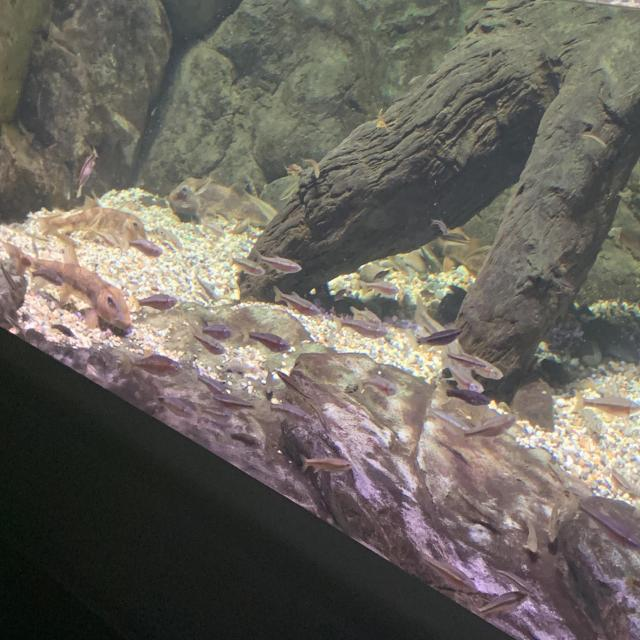fish: (3, 234, 145, 340), (34, 184, 162, 261), (169, 175, 283, 231), (425, 545, 507, 611), (444, 404, 527, 448), (411, 292, 466, 358), (442, 336, 512, 384), (432, 348, 498, 398), (579, 384, 640, 430), (120, 348, 184, 382), (334, 306, 392, 343), (270, 368, 326, 406), (202, 379, 259, 416), (356, 263, 404, 304), (475, 586, 528, 622), (269, 282, 317, 321), (253, 246, 306, 278), (298, 451, 354, 479), (246, 325, 290, 360), (413, 323, 467, 350), (198, 312, 236, 348), (185, 325, 227, 357), (74, 144, 100, 190), (544, 494, 566, 547), (156, 394, 195, 423), (226, 251, 265, 279), (152, 220, 185, 253), (519, 509, 541, 558), (192, 370, 228, 398), (130, 290, 178, 311), (121, 235, 164, 258), (580, 406, 609, 438), (357, 374, 397, 396), (606, 462, 630, 498), (349, 305, 381, 328), (277, 178, 300, 202), (428, 214, 448, 238), (300, 156, 320, 179), (283, 162, 303, 178), (332, 287, 348, 305)
